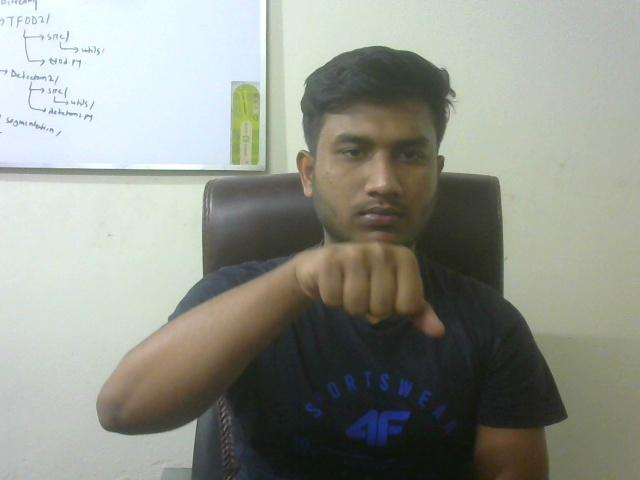Yes: (275, 220, 458, 366)
